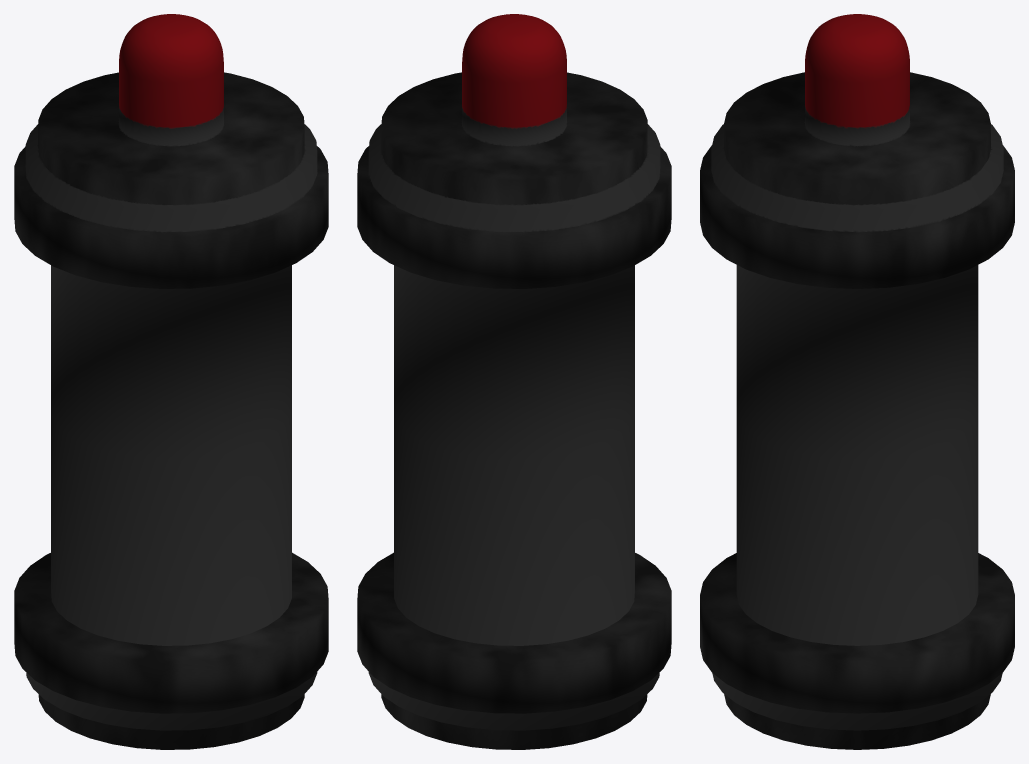
Rendered from Tanque.fbx.
3 views of the same model, side by side, from view 1: azimuth 30°, elevation 25°; view 2: azimuth 150°, elevation 25°; view 3: azimuth 270°, elevation 25° (orthographic).
Visible parts, largest first — view 1: Tanque1; view 2: Tanque1; view 3: Tanque1.
Boxes of the visible parts, <box> form: Tanque1: <box>14,14,328,749</box>; Tanque1: <box>357,14,671,749</box>; Tanque1: <box>700,14,1014,749</box>.
Size of the model in its own units: 140 by 330 by 140.
